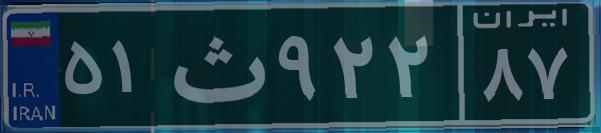1: (110, 28, 158, 105)
2: (385, 28, 445, 110), (330, 28, 385, 110)
5: (57, 26, 110, 107)
7: (525, 38, 570, 115)
8: (475, 38, 525, 113)
9: (273, 28, 330, 110)
ث: (158, 15, 273, 115)
